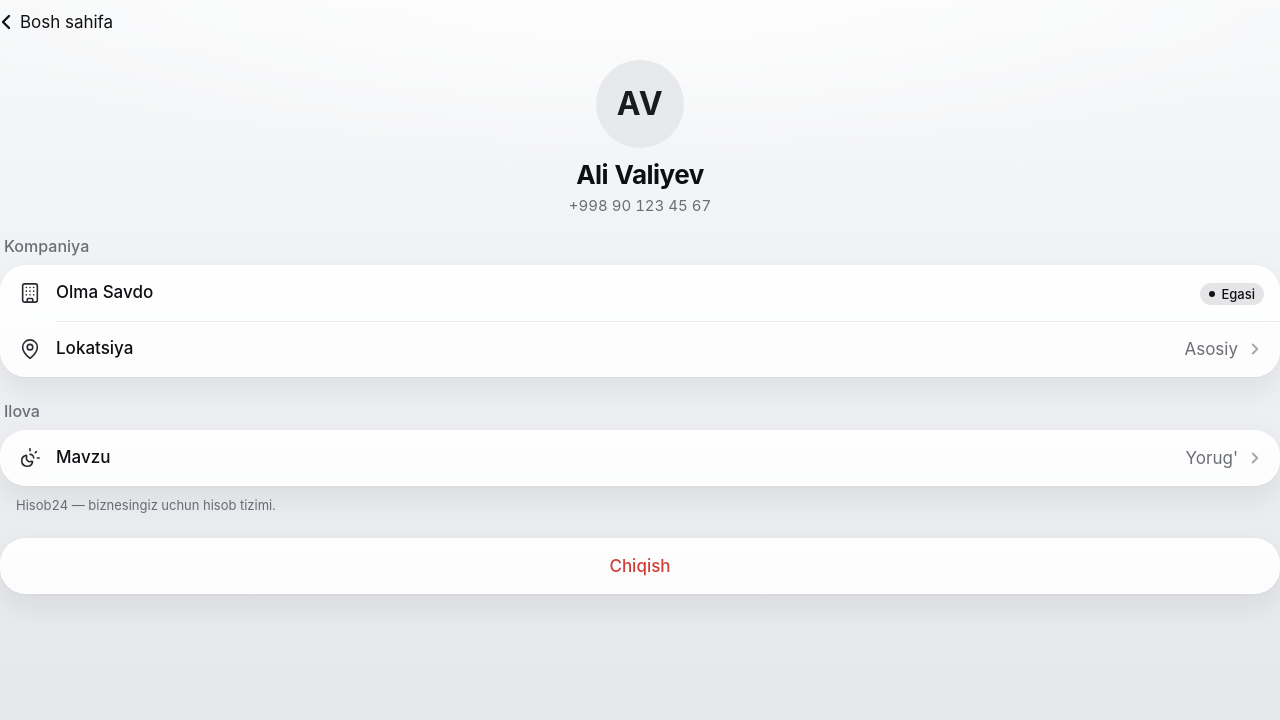
it: with two locations the current one is chosen here too
Click the button "Lokatsiya Asosiy".
click(95, 348)  # box [0, 321, 1279, 377]
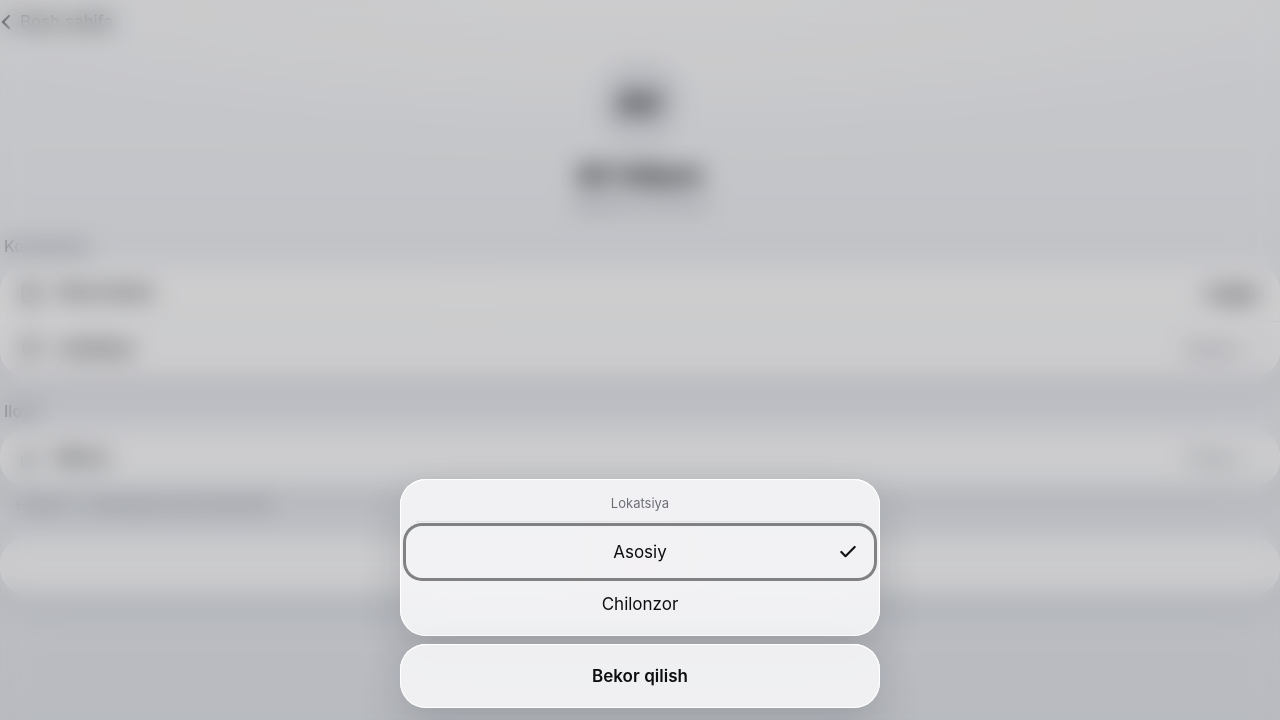
Click the menu item "Chilonzor".
click(640, 604)  # box [406, 578, 874, 630]
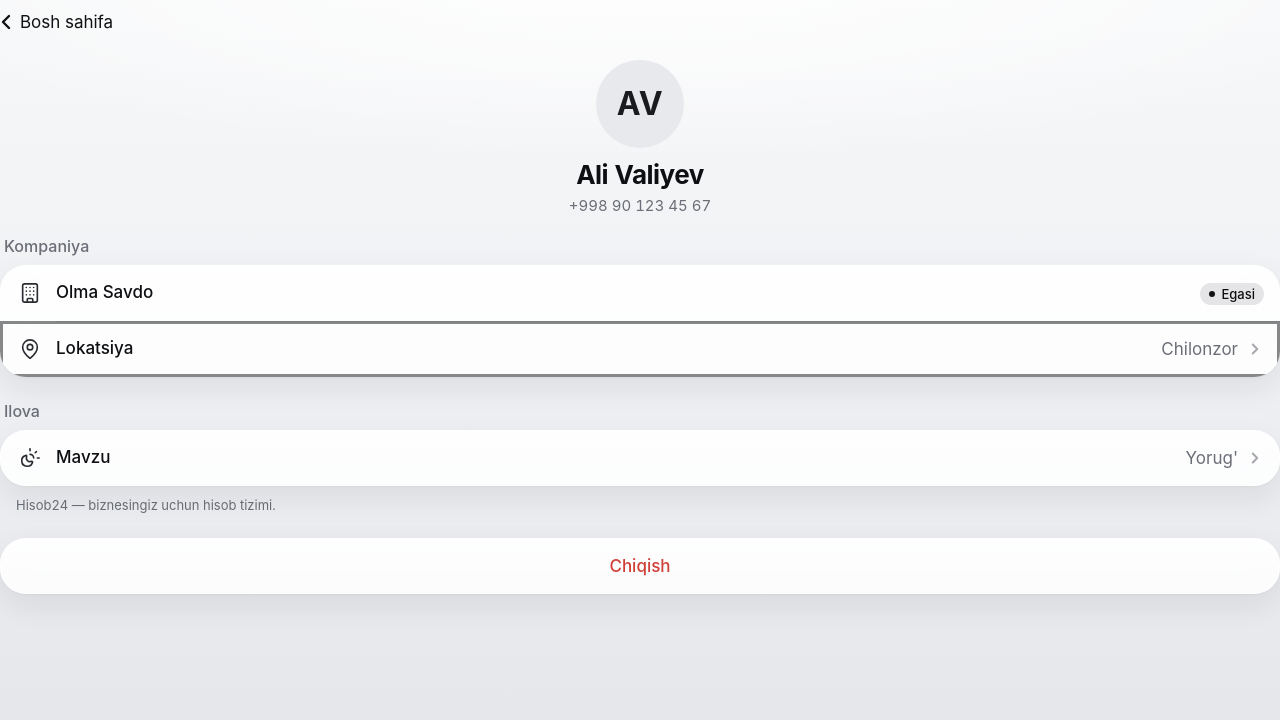
Check: the button "Lokatsiya Chilonzor" is shown, box [0, 321, 1279, 377]
